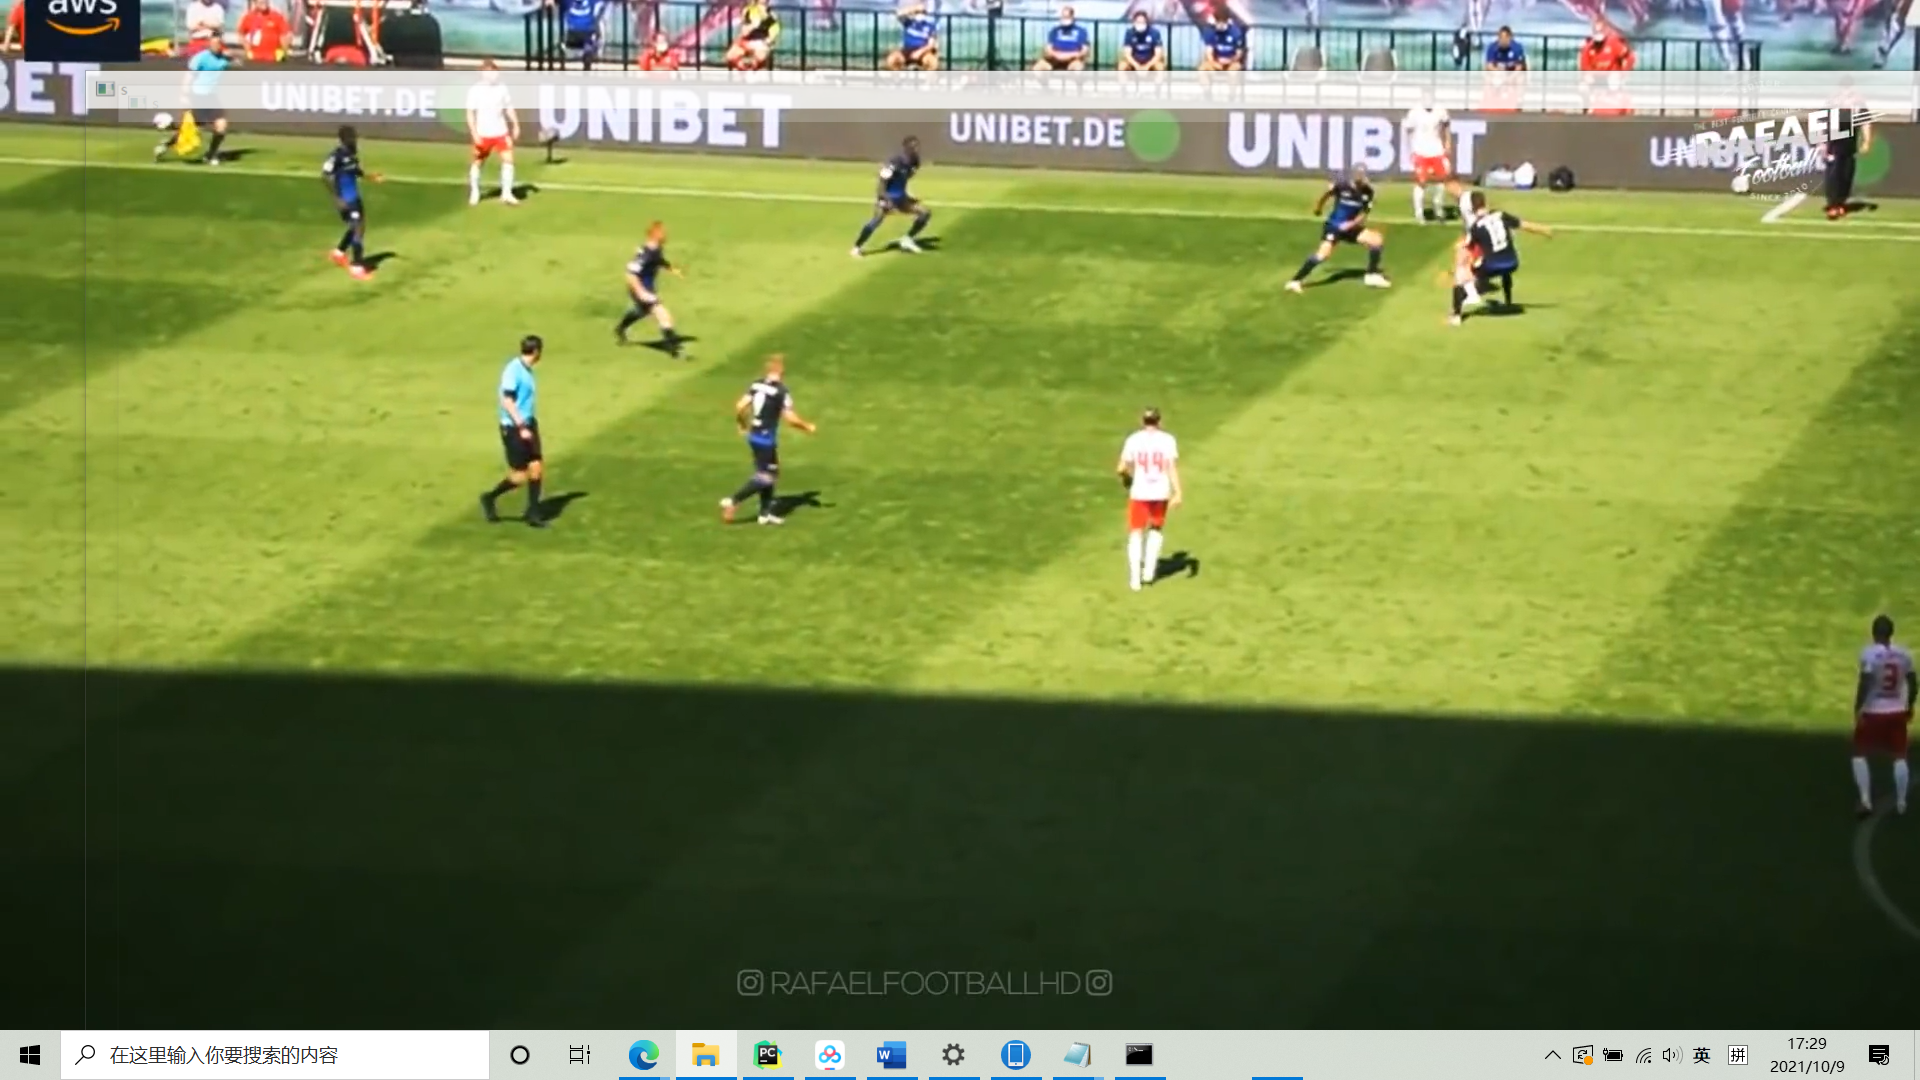ft: (1435, 269, 1457, 287), (1731, 175, 1751, 194)
